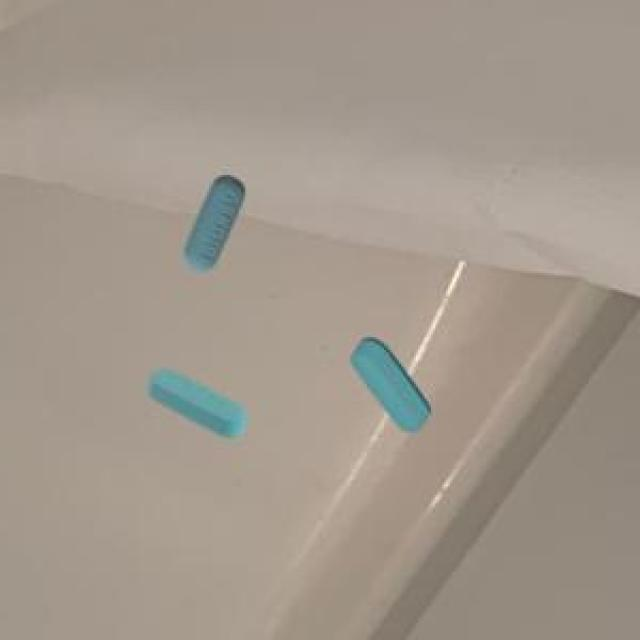Bioflu: (134, 352, 260, 456), (340, 319, 440, 444), (171, 168, 263, 281)
